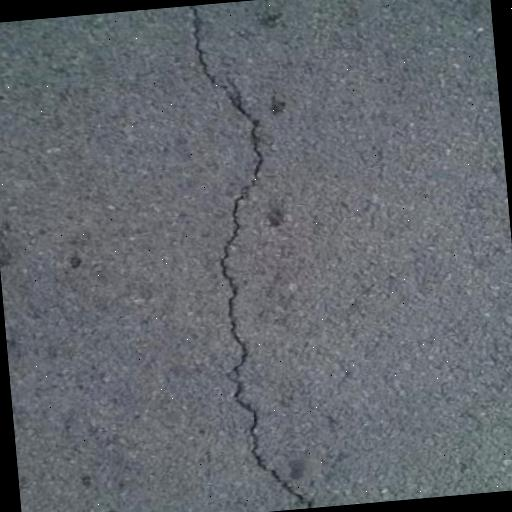spalling: (183, 14, 335, 507)
